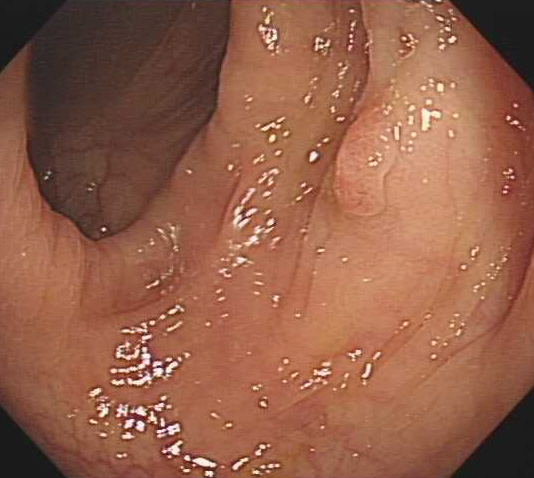others: (329, 104, 400, 218)
